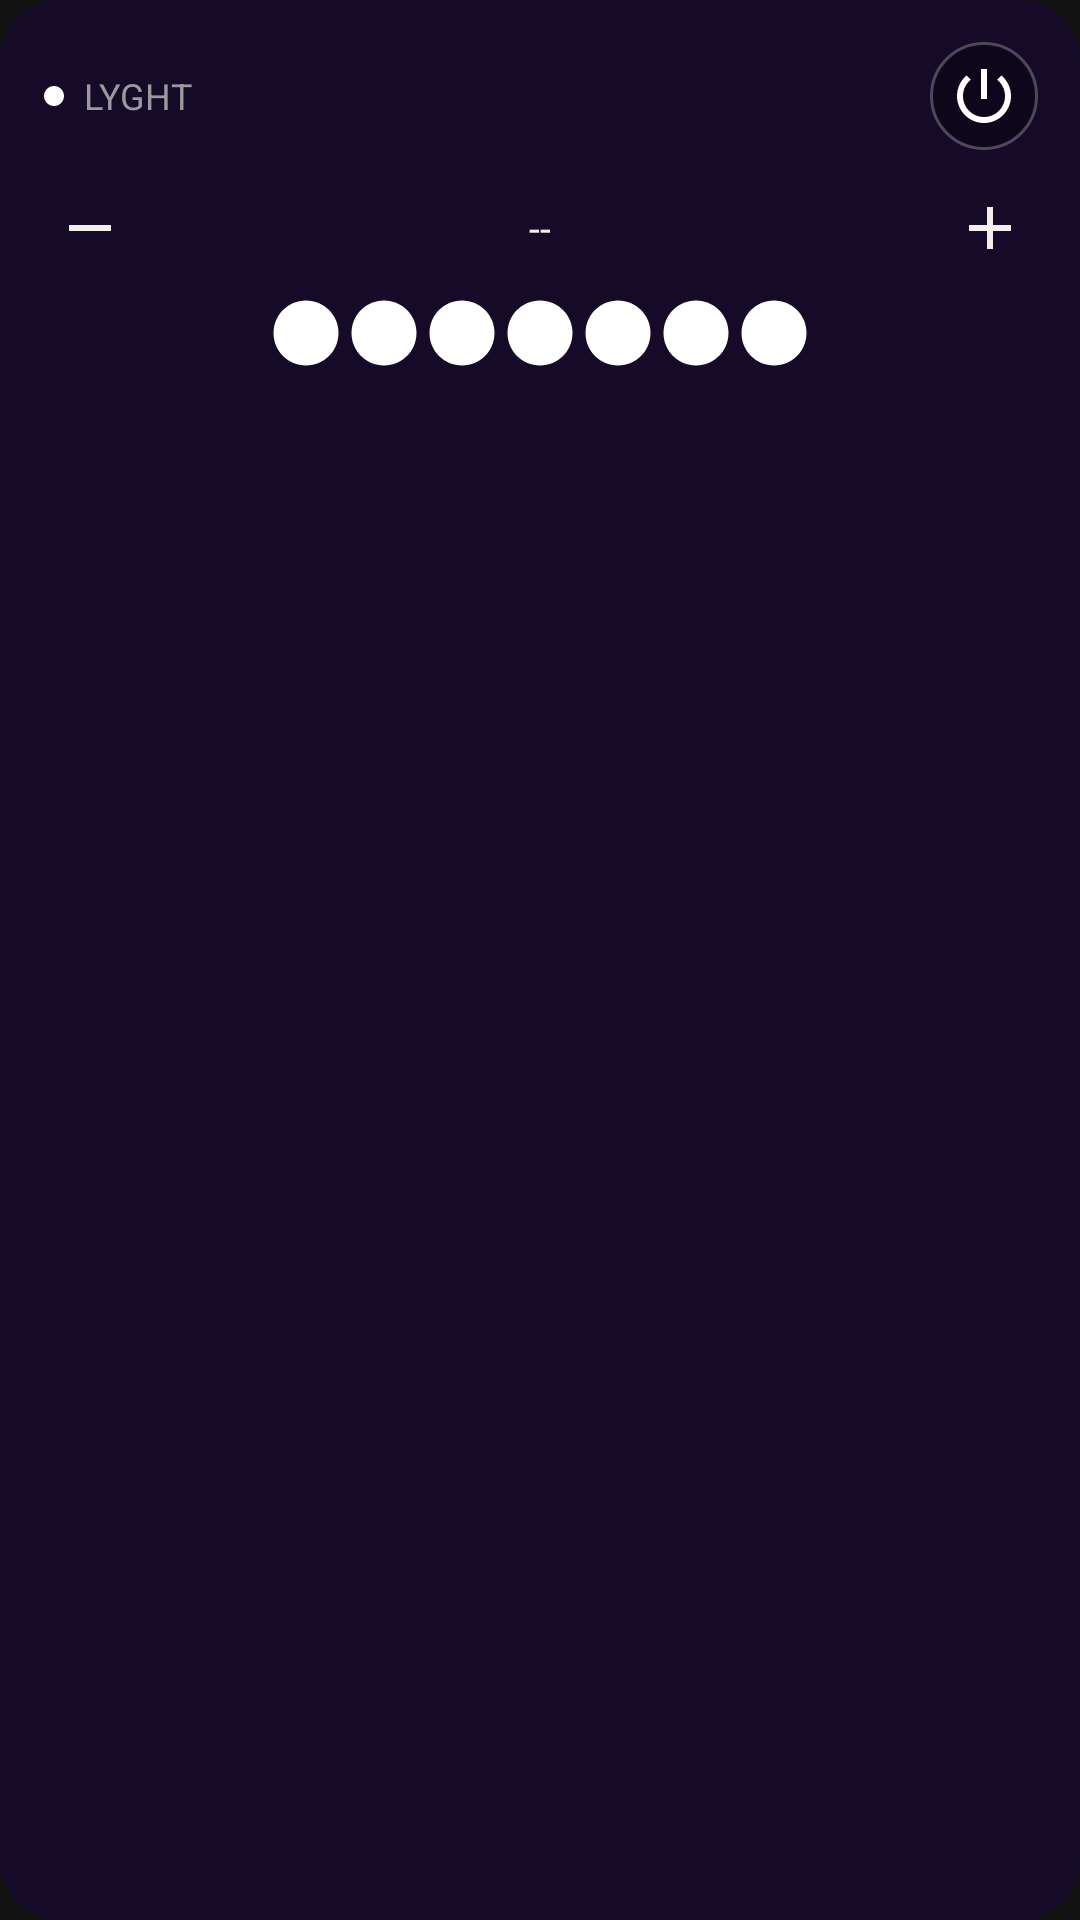

Where icons sit on this 1080w x 1920h app screen, as {"x1": x1, "y1": y1, "x2": x2, "y2": y2}:
plus: {"x1": 969, "y1": 207, "x2": 1011, "y2": 249}
power: {"x1": 930, "y1": 42, "x2": 1038, "y2": 150}
